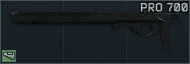Remington M700 Magpul Pro 700 chassis: (0, 0, 190, 64)
